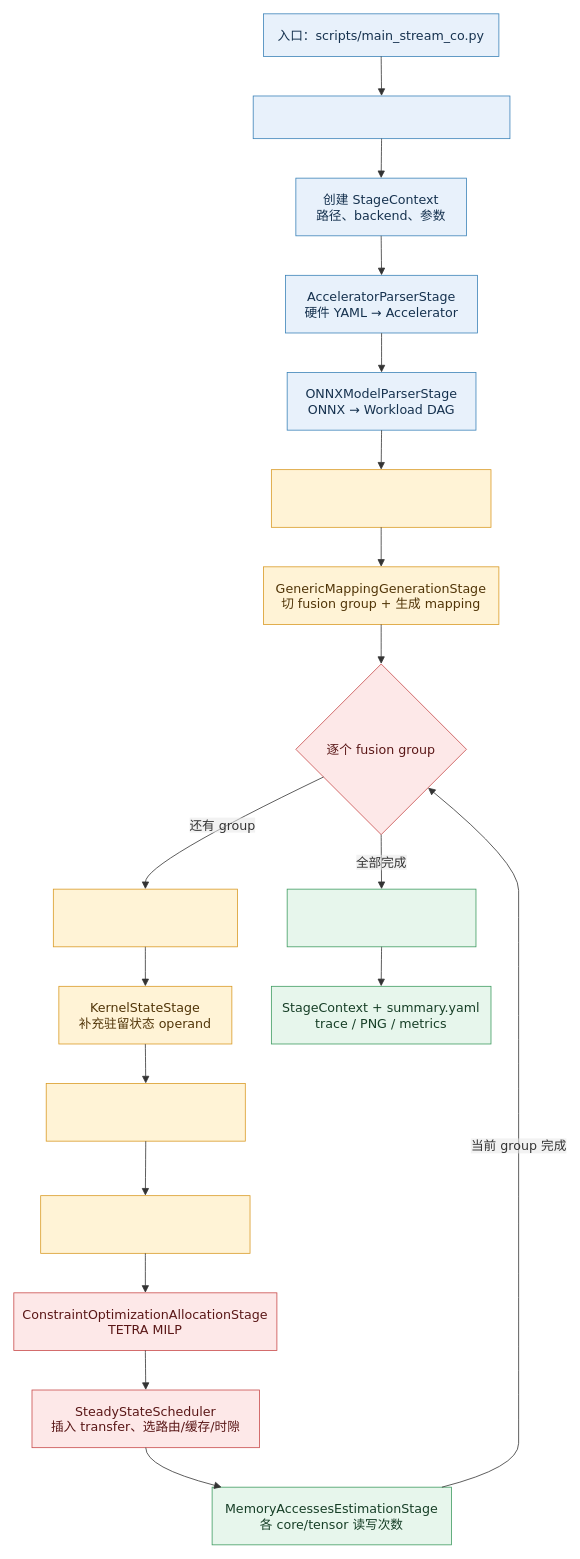
This 580x1559 diagram has some shape labels left out. The shapes that lost their labels are listed below. From the top down, each one's box as (x1, y1, x2, y2) in pixels, then its label:
(252, 95, 510, 139): API：optimize_allocation_co_generic
(271, 469, 491, 527): ExpandNormalizationStage Softmax/Norm → affine 子算子
(53, 888, 237, 947): MappingParserStage group YAML → Mapping
(286, 888, 476, 947): 聚合各 group total_latency / allocations
(45, 1083, 245, 1141): TilingGenerationStage fusion split + tiled workload
(40, 1195, 250, 1253): CoreCostEstimationStage node×core 代价 → Cost LUT
